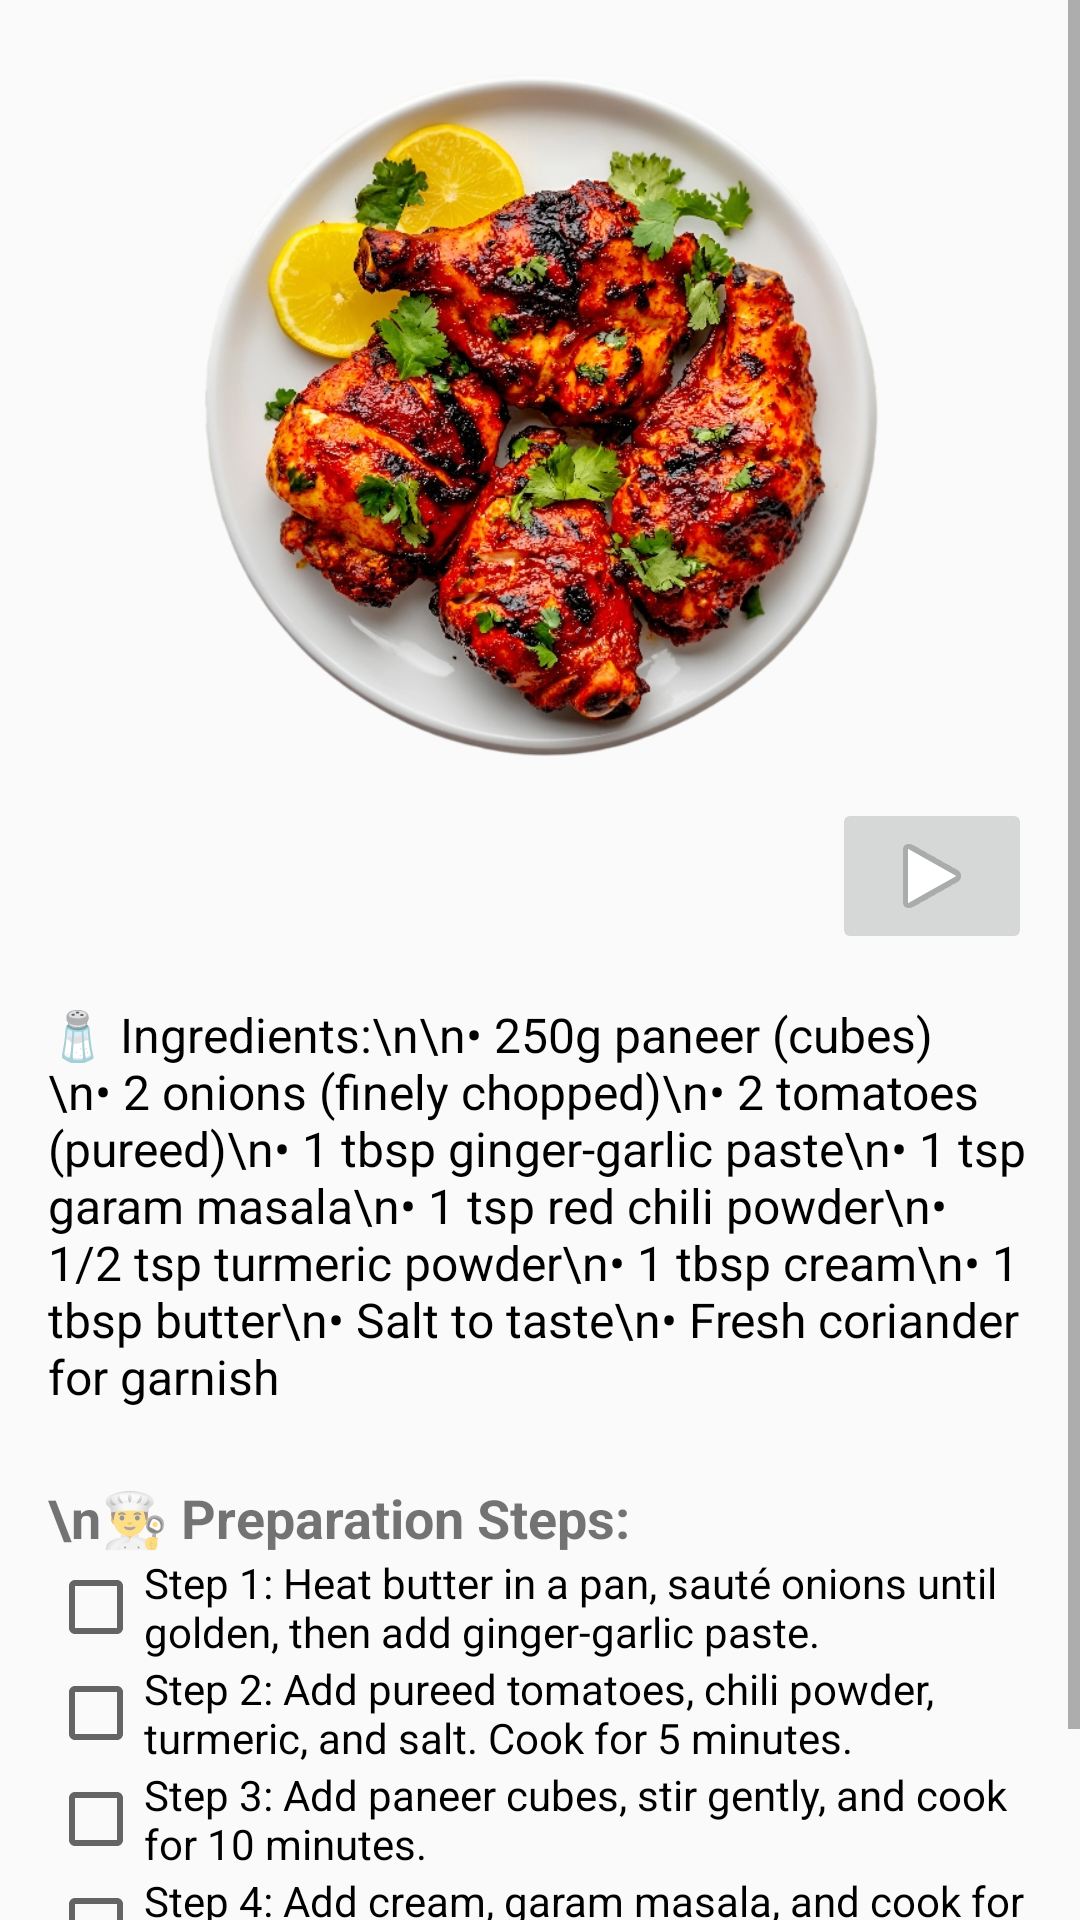

Where to tap for icons on this 1080*1920 app screen, as (x=x, y=y):
play: (x=932, y=876)
